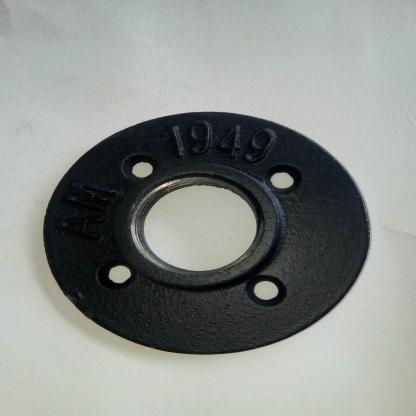FOD: (37, 110, 379, 356)
